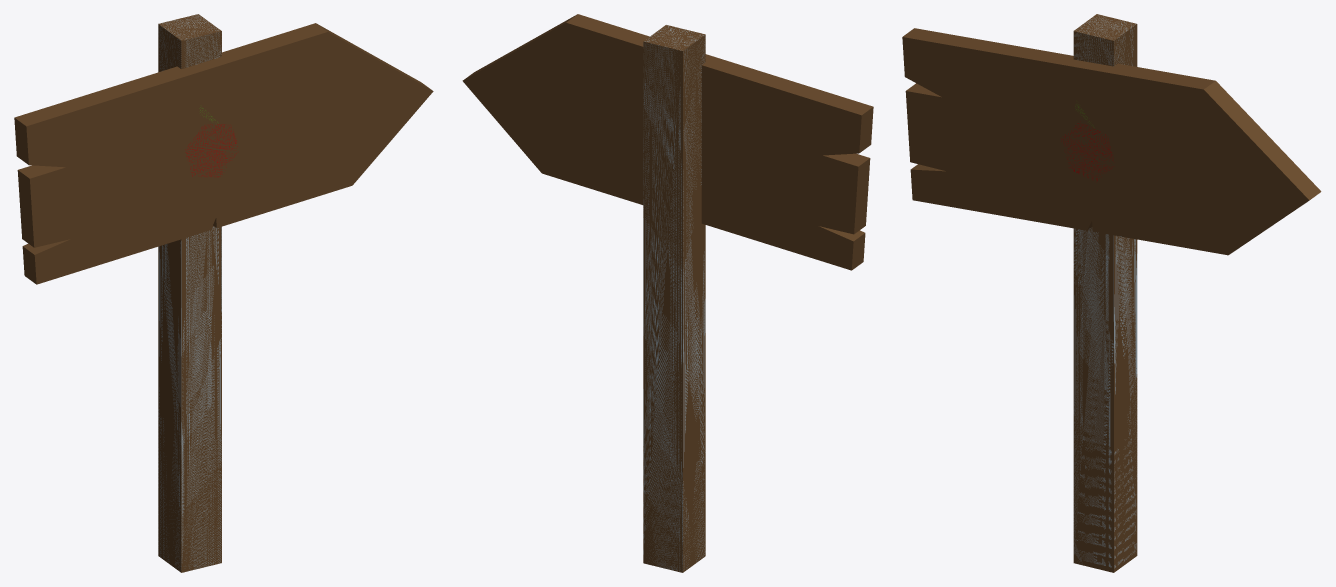
The model's file is Sign_Timber_Apples_01.fbx.
3 views of the same model, side by side, from view 1: azimuth 30°, elevation 25°; view 2: azimuth 150°, elevation 25°; view 3: azimuth 330°, elevation 25° (orthographic).
Visible parts, largest first — view 1: Model, Group1; view 2: Model, Group1; view 3: Model, Group1.
Part boxes in pixels (<box>): Model: <box>14,23,433,284</box>; Group1: <box>158,14,221,572</box>; Model: <box>462,14,873,270</box>; Group1: <box>643,25,705,572</box>; Model: <box>902,28,1321,255</box>; Group1: <box>1073,14,1137,572</box>.
Size of the model in its own units: 218 by 272 by 29.07.
